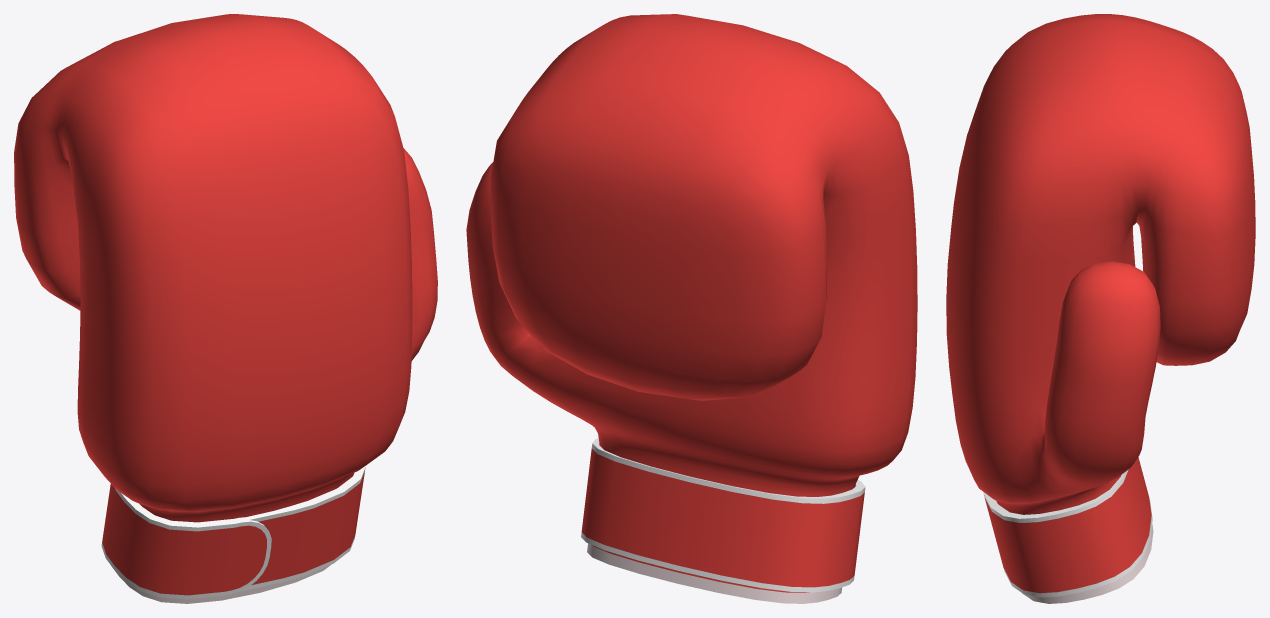
The model's file is boxing_glove.glb.
3 views of the same model, side by side, from view 1: azimuth 30°, elevation 25°; view 2: azimuth 150°, elevation 25°; view 3: azimuth 270°, elevation 25° (orthographic). The views are drawn at different scales.
Visible parts, largest first — view 1: Cube.825; view 2: Cube.825; view 3: Cube.825.
Boxes of the visible parts, box(x1,y1,x2,y2) form: Cube.825: box(14, 14, 437, 603); Cube.825: box(466, 14, 917, 603); Cube.825: box(946, 14, 1255, 603).
Bounding box in the file's own units: 1.68 × 2.34 × 1.26.
1 material, 1 textured.
